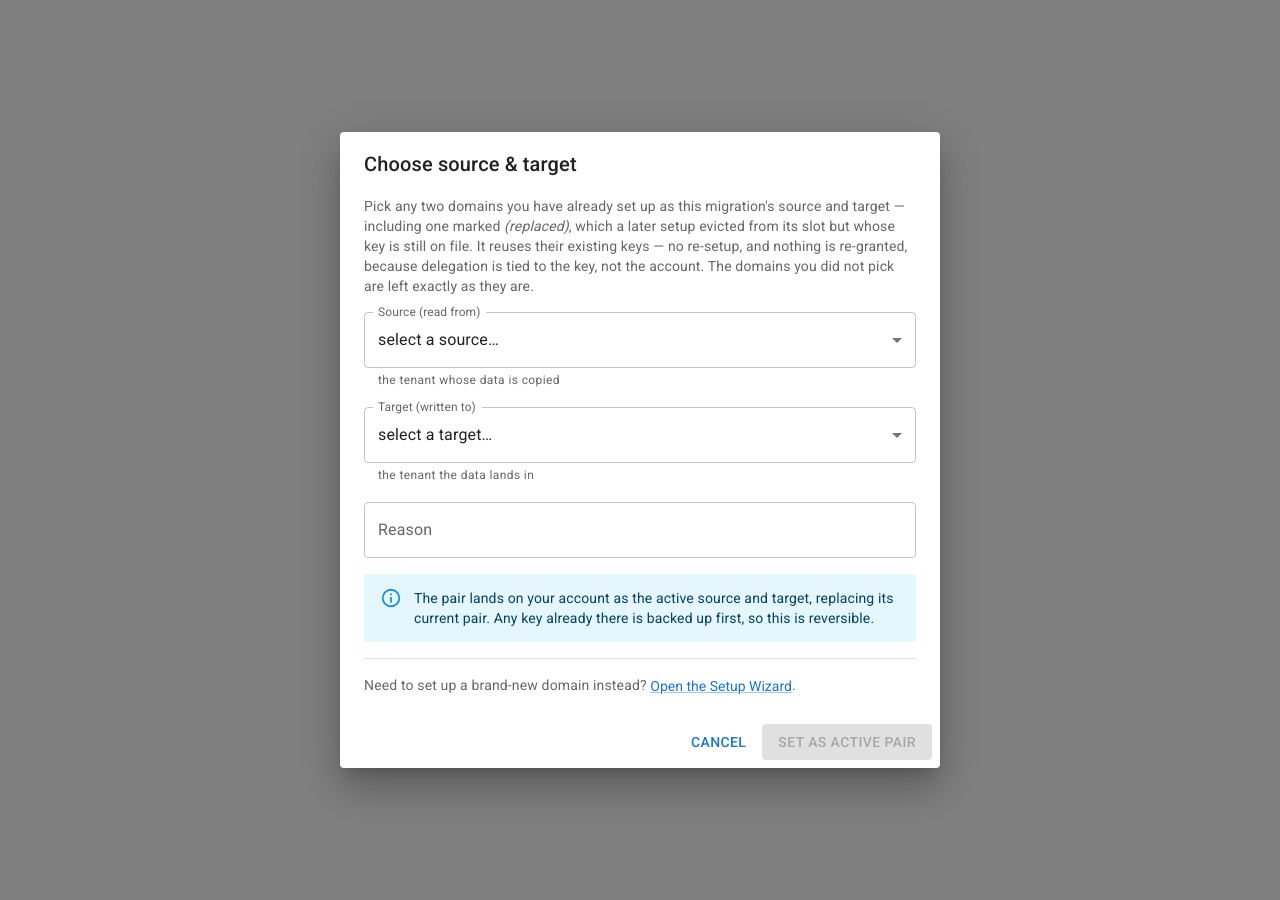
Test: changing the pair after a warning › drops the old pair's warning and offers to link again when the target changes
Select "src.example — source · a@ex.com" in the dropdown with test id "link-source" at (640, 340), box [364,312,916,368]
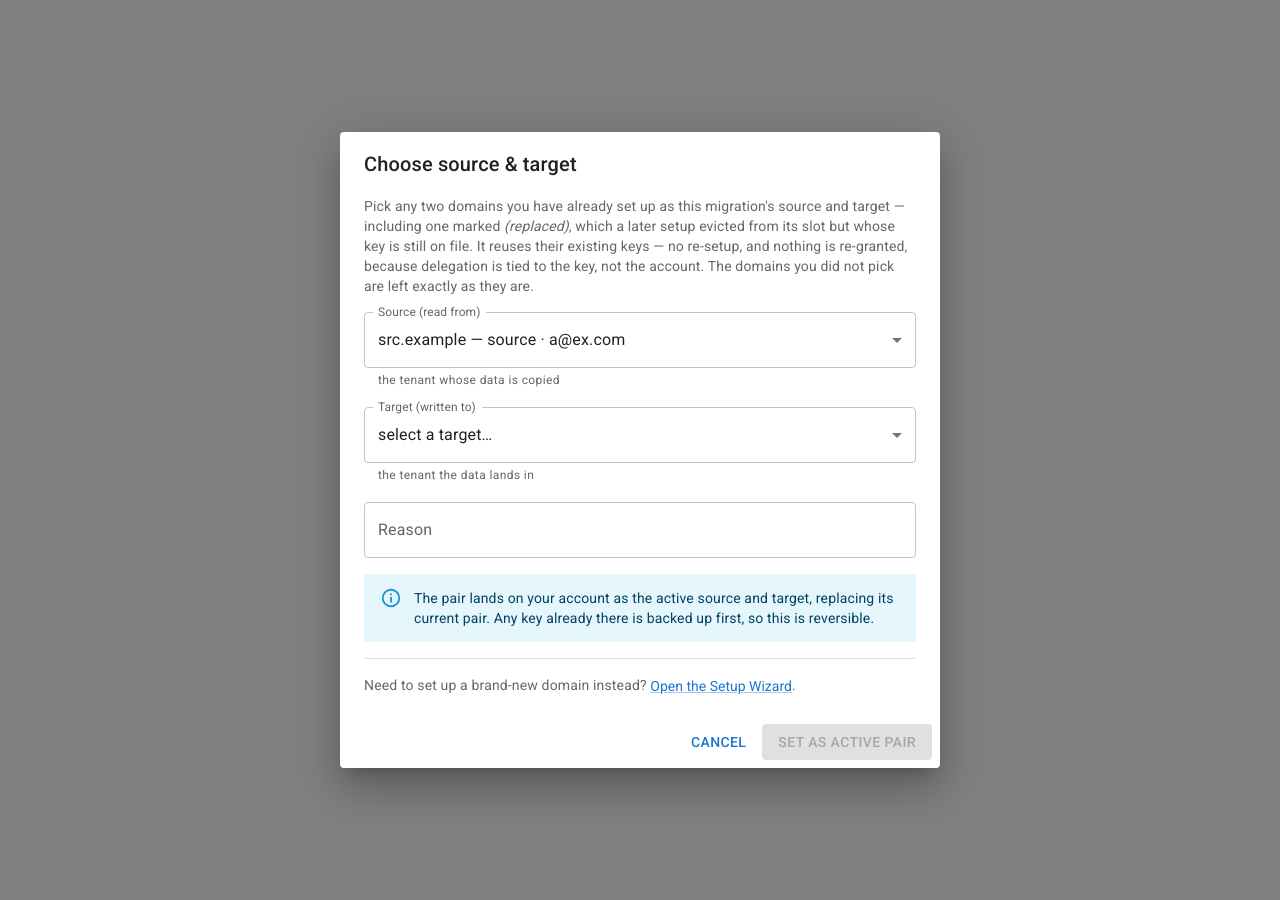
Select "tgt.example — target · b@ex.com" in the dropdown with test id "link-target" at (640, 435), box [364,407,916,463]
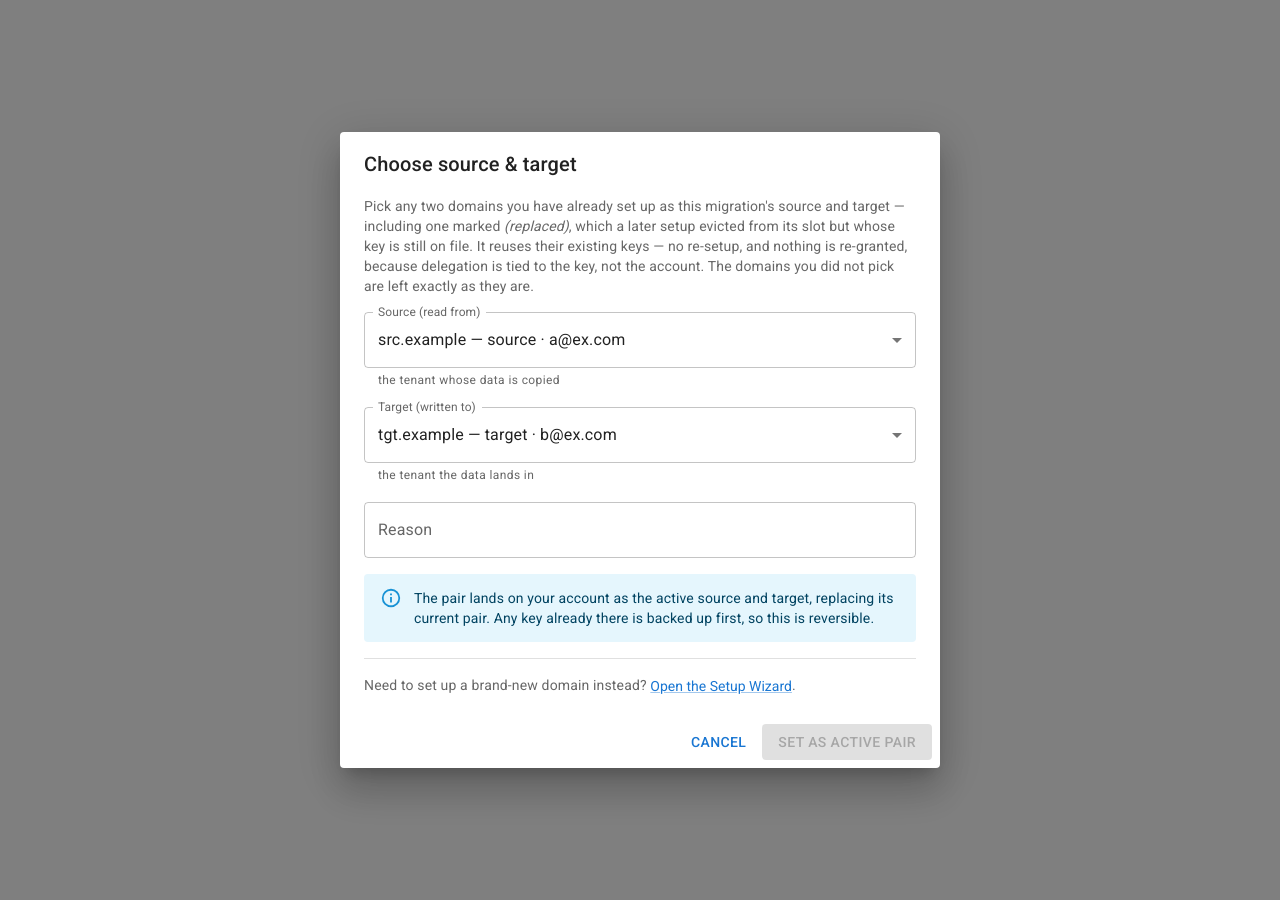
Type "test run" into the field with test id "link-reason" at (640, 530), box [364,502,916,558]
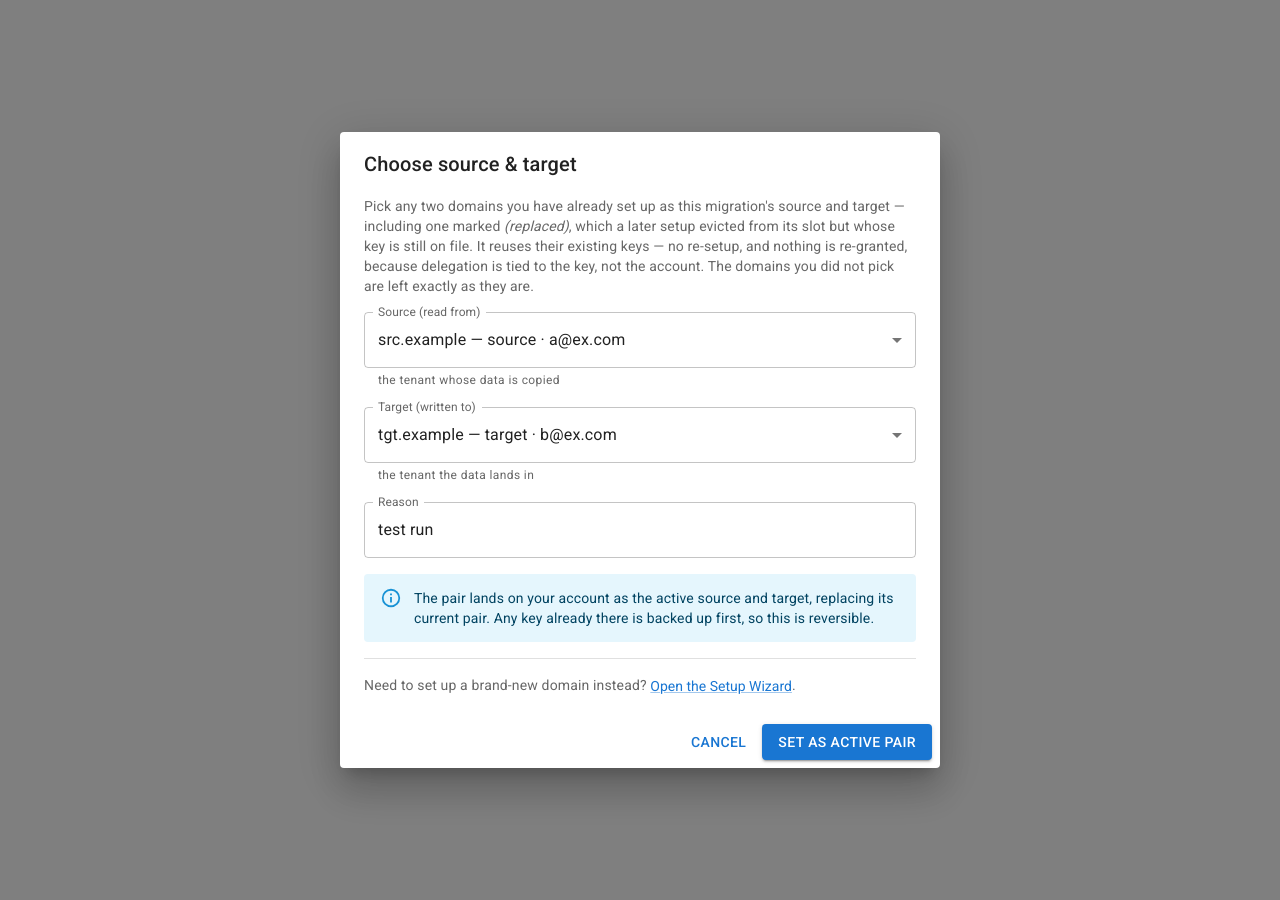
Click the button with test id "link-connect" at (847, 742), box [762,724,932,760]
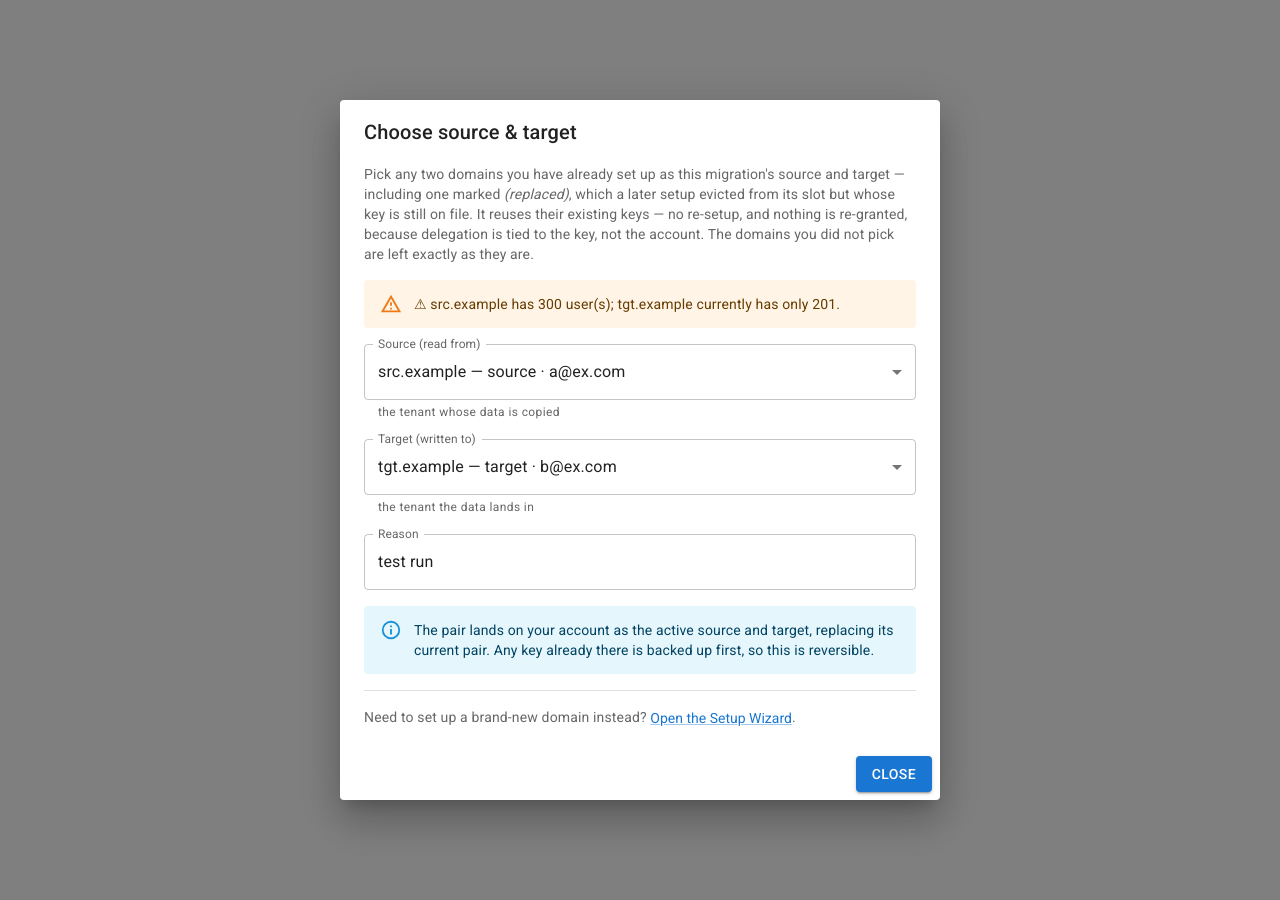
Expected: the message "⚠ src.example has 300 user(s); tgt.example currently has only 201." is shown, [364,280,916,328]
Expected: the button with test id "link-connect" is gone
Select "tgt2.example — target · c@ex.com" in the dropdown with test id "link-target" at (640, 467), box [364,439,916,495]
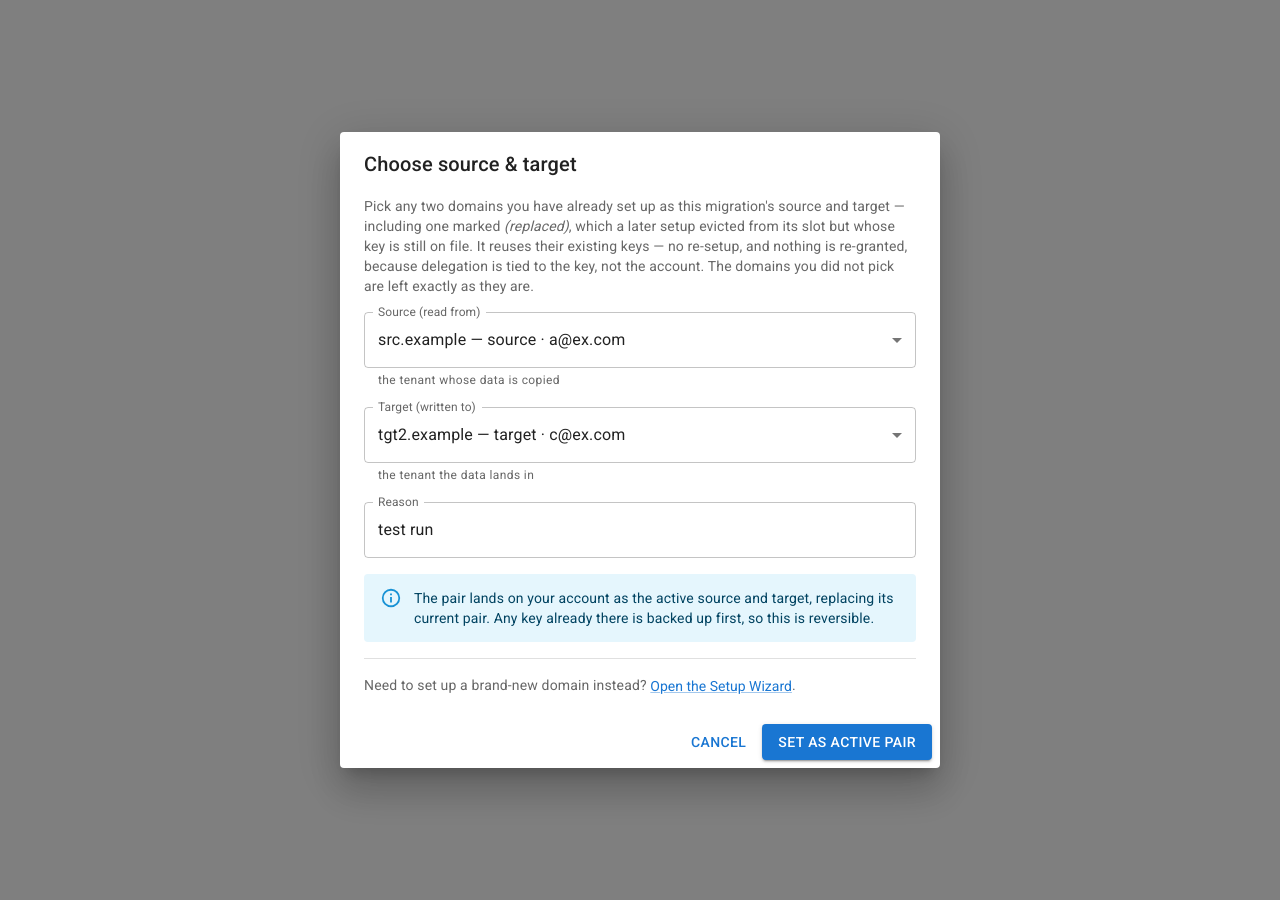
Expected: the message with test id "link-warning" is gone
Expected: the button with test id "link-connect" is enabled, [762,724,932,760]
